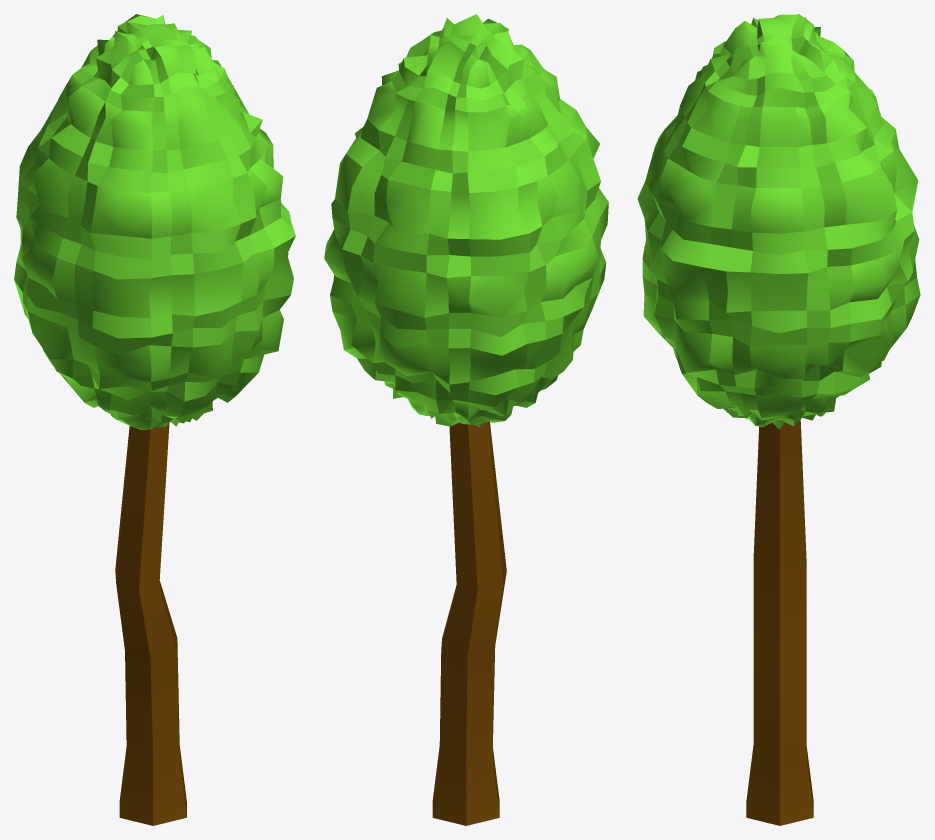
File: tree.fbx
3 renders of one model, left to right at view 1: azimuth 30°, elevation 25°; view 2: azimuth 150°, elevation 25°; view 3: azimuth 270°, elevation 25°, orthographic.
Visible parts, largest first — view 1: pCube1, pCylinder1; view 2: pCube1, pCylinder1; view 3: pCube1, pCylinder1.
Boxes of the visible parts, x1,y1,x2,y2 form: pCube1: [14, 14, 295, 429]; pCylinder1: [115, 422, 186, 825]; pCube1: [324, 14, 608, 427]; pCylinder1: [432, 421, 506, 825]; pCube1: [637, 14, 920, 429]; pCylinder1: [746, 420, 813, 825].
Size of the model in its own units: 11.91 by 38.29 by 12.43.
